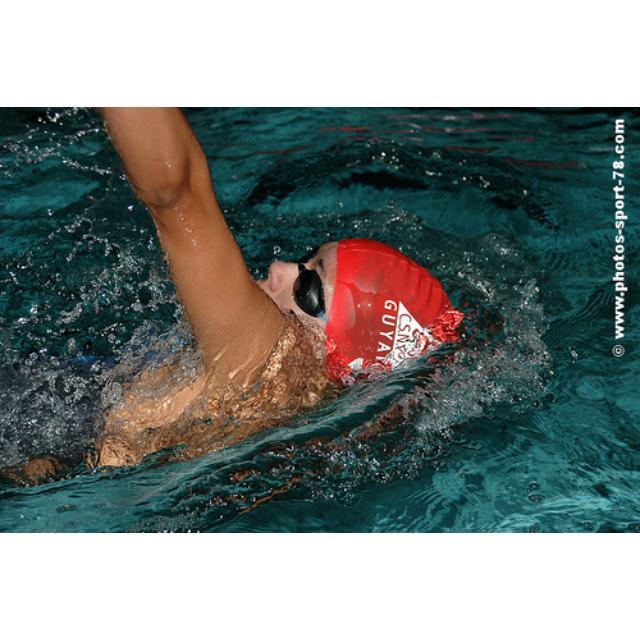human: (91, 109, 467, 463)
